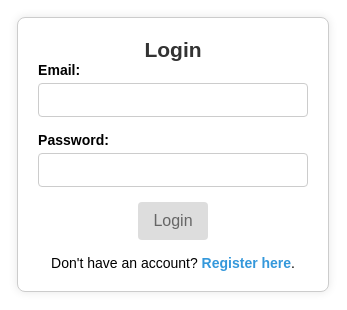
Test case: Login Form › Logs user button is active
Type "roman@yandex.com" into the field. click: [173, 100]
box: [38,82,308,116]
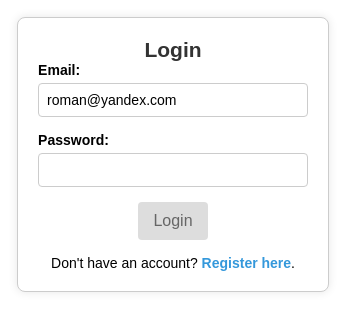
Type "Roman123)" into the password field. click: [173, 170]
box: [38,152,308,186]
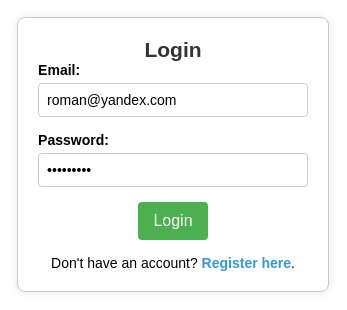
expect the button is enabled: met, box [138,202,208,240]
